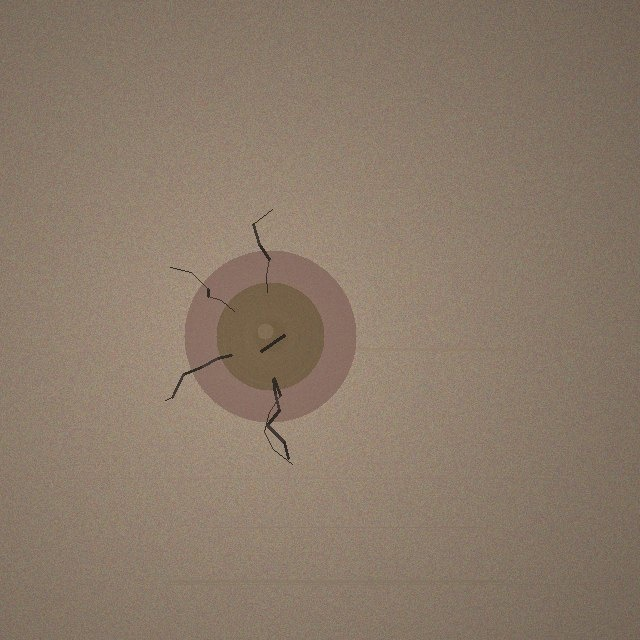crack: (184, 250, 356, 422)
